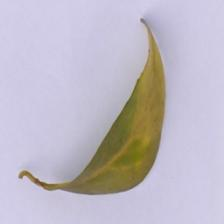greening: (119, 14, 180, 158)
